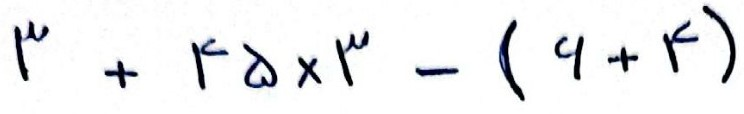character: (701, 3, 738, 85), (497, 18, 528, 102), (13, 21, 50, 82), (190, 37, 231, 90), (661, 21, 700, 74), (335, 29, 370, 87), (242, 43, 279, 89), (553, 35, 586, 81), (105, 60, 139, 89), (296, 56, 324, 88), (607, 46, 639, 72), (413, 66, 460, 78)
